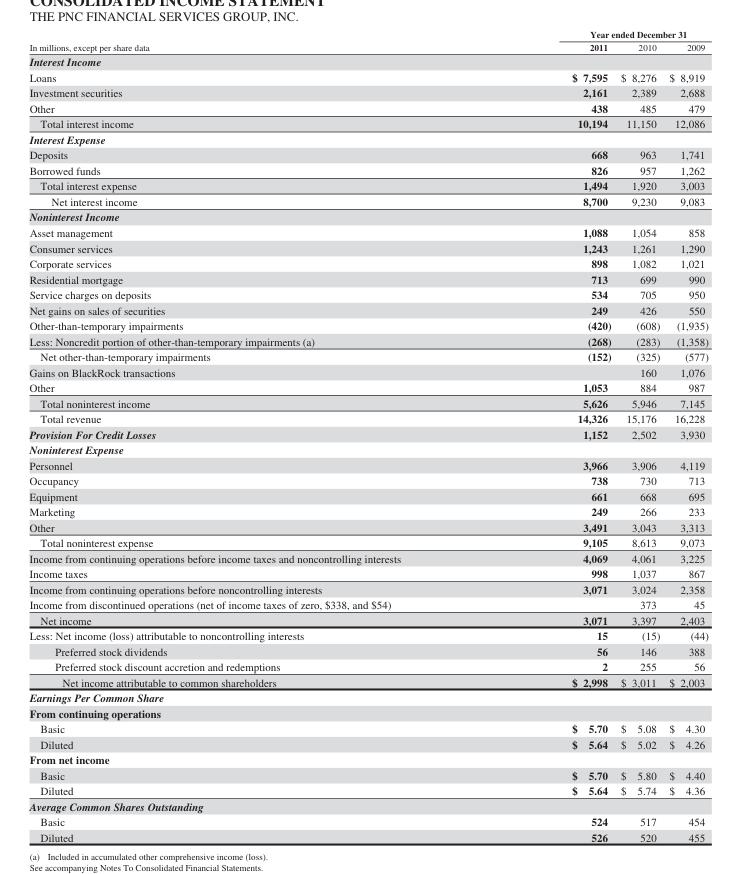table: (28, 28, 707, 843)
table column: (28, 28, 485, 843), (485, 28, 615, 843), (615, 28, 663, 843), (663, 28, 707, 843)
table column header: (28, 28, 707, 53)
table projected row header: (28, 53, 707, 69), (28, 208, 707, 224), (28, 704, 707, 720), (28, 131, 707, 146), (28, 441, 707, 456), (28, 689, 707, 704), (28, 751, 707, 766), (28, 798, 707, 813)
table row: (28, 53, 707, 69), (28, 84, 707, 100), (28, 115, 707, 131), (28, 146, 707, 162), (28, 177, 707, 193), (28, 208, 707, 224), (28, 239, 707, 255), (28, 270, 707, 286), (28, 301, 707, 317), (28, 332, 707, 348), (28, 348, 707, 364), (28, 394, 707, 410), (28, 425, 707, 441), (28, 456, 707, 472), (28, 487, 707, 503), (28, 518, 707, 534), (28, 549, 707, 565), (28, 580, 707, 596), (28, 611, 707, 627), (28, 627, 707, 643), (28, 673, 707, 689), (28, 704, 707, 720), (28, 735, 707, 751), (28, 766, 707, 782), (28, 782, 707, 798), (28, 69, 707, 84), (28, 100, 707, 115), (28, 131, 707, 146), (28, 162, 707, 177), (28, 193, 707, 208), (28, 224, 707, 239), (28, 255, 707, 270), (28, 286, 707, 301), (28, 317, 707, 332), (28, 364, 707, 379), (28, 379, 707, 394), (28, 410, 707, 425), (28, 441, 707, 456), (28, 472, 707, 487), (28, 503, 707, 518), (28, 534, 707, 549), (28, 565, 707, 580), (28, 596, 707, 611), (28, 643, 707, 658), (28, 658, 707, 673), (28, 689, 707, 704), (28, 720, 707, 735), (28, 751, 707, 766), (28, 798, 707, 813), (28, 813, 707, 828), (28, 828, 707, 843), (28, 40, 707, 53), (28, 28, 707, 40)
table spanning cell: (28, 28, 485, 53), (485, 28, 707, 40)
